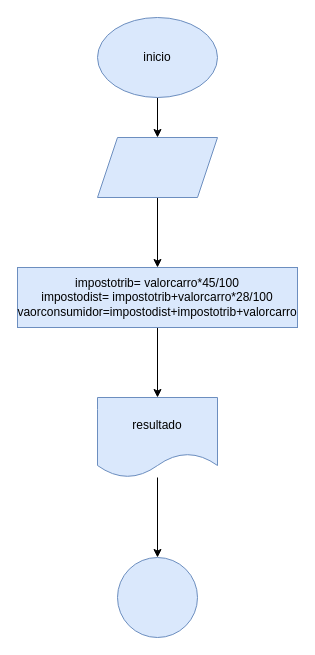
Some shapes in this 315 by 655 pixel diagram are drawn without their labels. The centre of each missing label's shape, as x and y in pixels:
custocarro: point (157, 167)
fim: point (157, 597)
